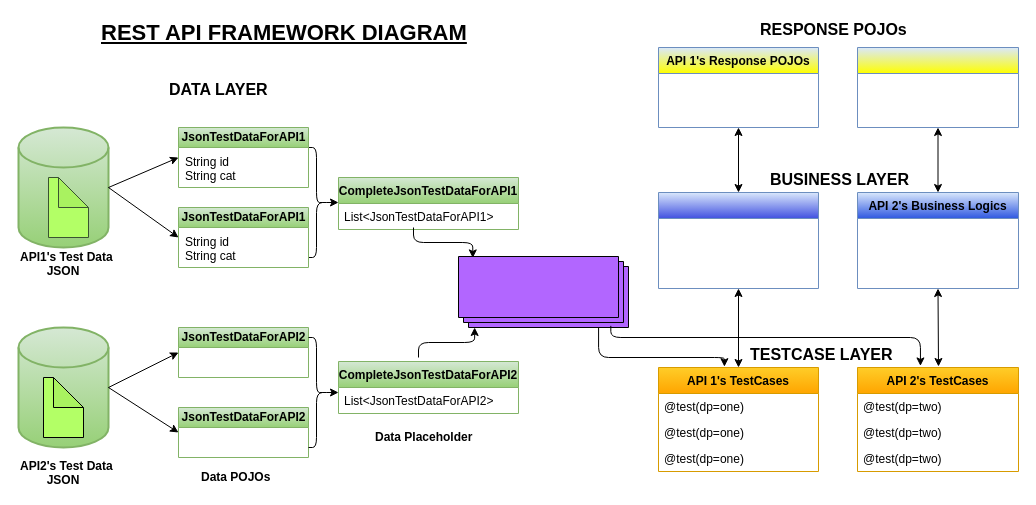
The diagram is 1036 pixels wide and 505 high, and some of its shapes have lost their labels. The shapes that lost their labels are listed below. From the top down, each one's centre as x and y in pixels, then its label:
(937,87): API 2's Response POJOs
(738,240): API 1's Business Logics
(543,292): DATA PROVIDER
